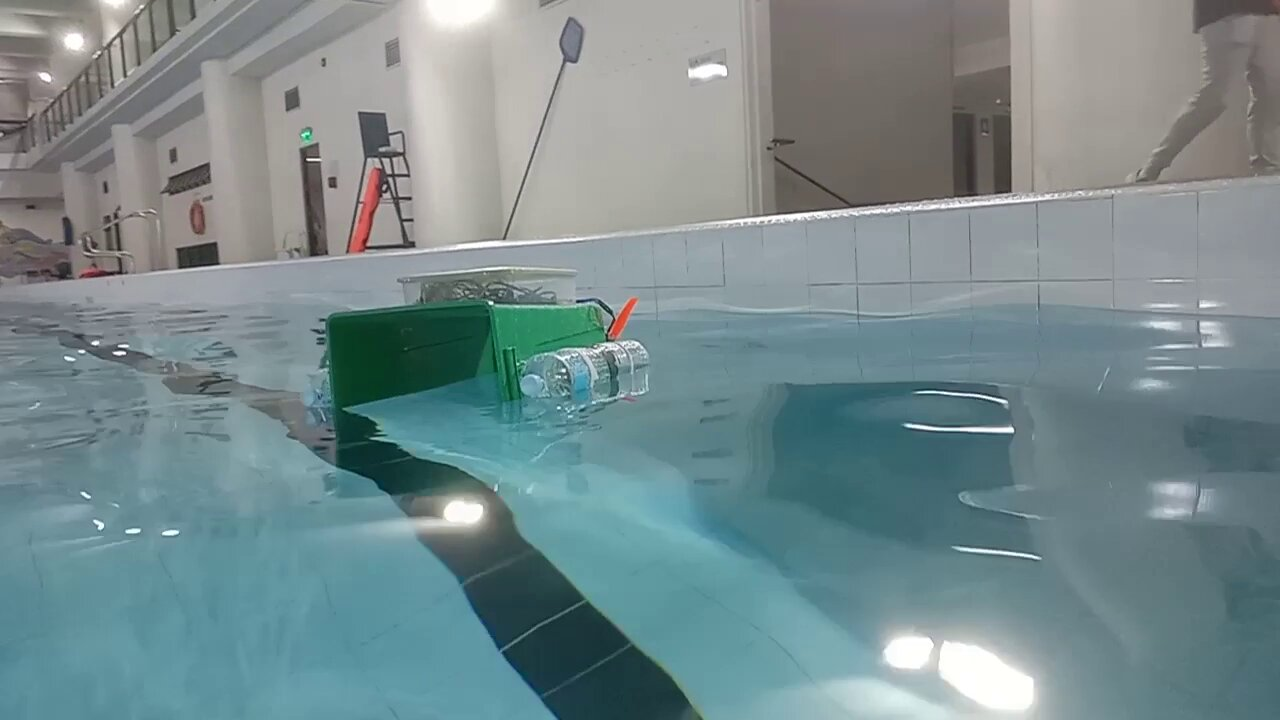drone: (298, 264, 652, 412)
